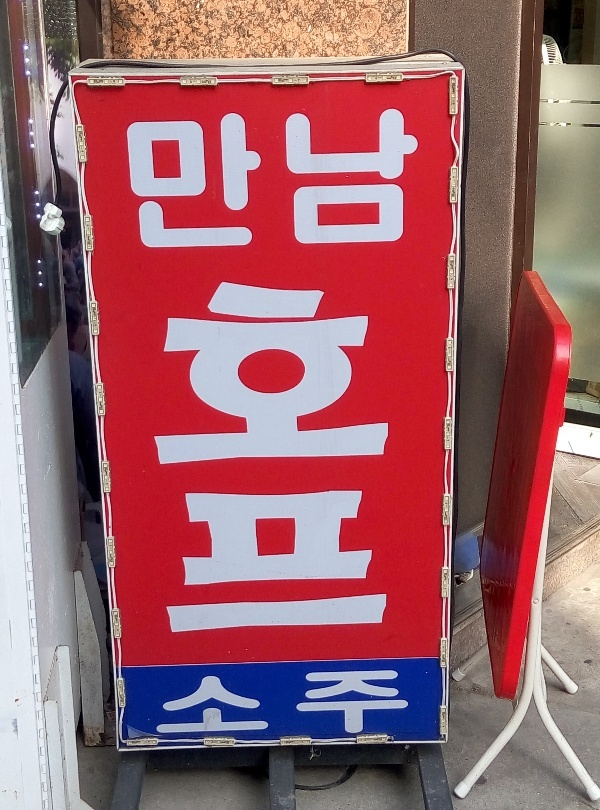text: (145, 275, 160, 642), (161, 275, 176, 642), (177, 275, 192, 642), (193, 275, 208, 642), (209, 275, 224, 642), (225, 275, 240, 642), (241, 275, 256, 642), (257, 275, 272, 642), (273, 275, 288, 642), (289, 275, 304, 642), (305, 275, 320, 642), (321, 275, 336, 642), (337, 275, 352, 642), (353, 275, 368, 642), (369, 275, 384, 642), (385, 275, 397, 642), (129, 103, 144, 255), (145, 103, 160, 255), (161, 103, 176, 255), (177, 103, 192, 255), (193, 103, 208, 255), (209, 103, 224, 255), (225, 103, 240, 255), (241, 103, 256, 255), (257, 103, 272, 255), (273, 103, 288, 255), (289, 103, 304, 255), (305, 103, 320, 255), (321, 103, 336, 255), (337, 103, 352, 255), (353, 103, 368, 255), (369, 103, 384, 255), (385, 103, 400, 255), (401, 103, 416, 255), (177, 663, 192, 743), (193, 663, 208, 743), (209, 663, 224, 743), (225, 663, 240, 743), (241, 663, 256, 743), (257, 663, 272, 743), (273, 663, 288, 743), (289, 663, 304, 743), (305, 663, 320, 743), (321, 663, 336, 743), (337, 663, 352, 743), (353, 663, 368, 743), (369, 663, 384, 743), (385, 663, 400, 743), (401, 663, 415, 743), (122, 103, 128, 255), (142, 275, 144, 642), (417, 103, 421, 255), (173, 663, 176, 743), (579, 394, 592, 412), (577, 11, 585, 27), (569, 11, 576, 27), (589, 381, 592, 391), (593, 381, 595, 391)
